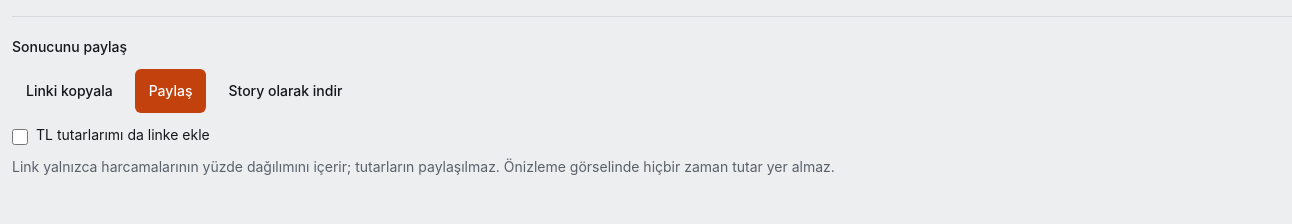
it: ShareActions › story kartını tutarsız görsel isteğiyle alır ve indirir
What coordinates should you click on to do the following:
click the button "Story olarak indir"
I would click on:
 (285, 91)
Its box is x1=214 y1=69 x2=356 y2=113.
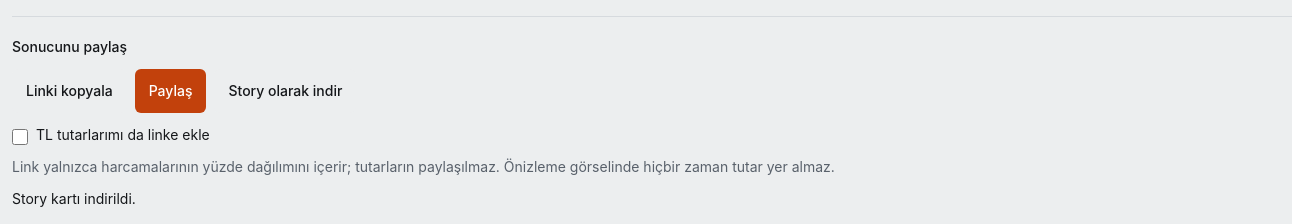
Expected: the message reads "Story kartı indirildi.", x1=12 y1=190 x2=136 y2=207
